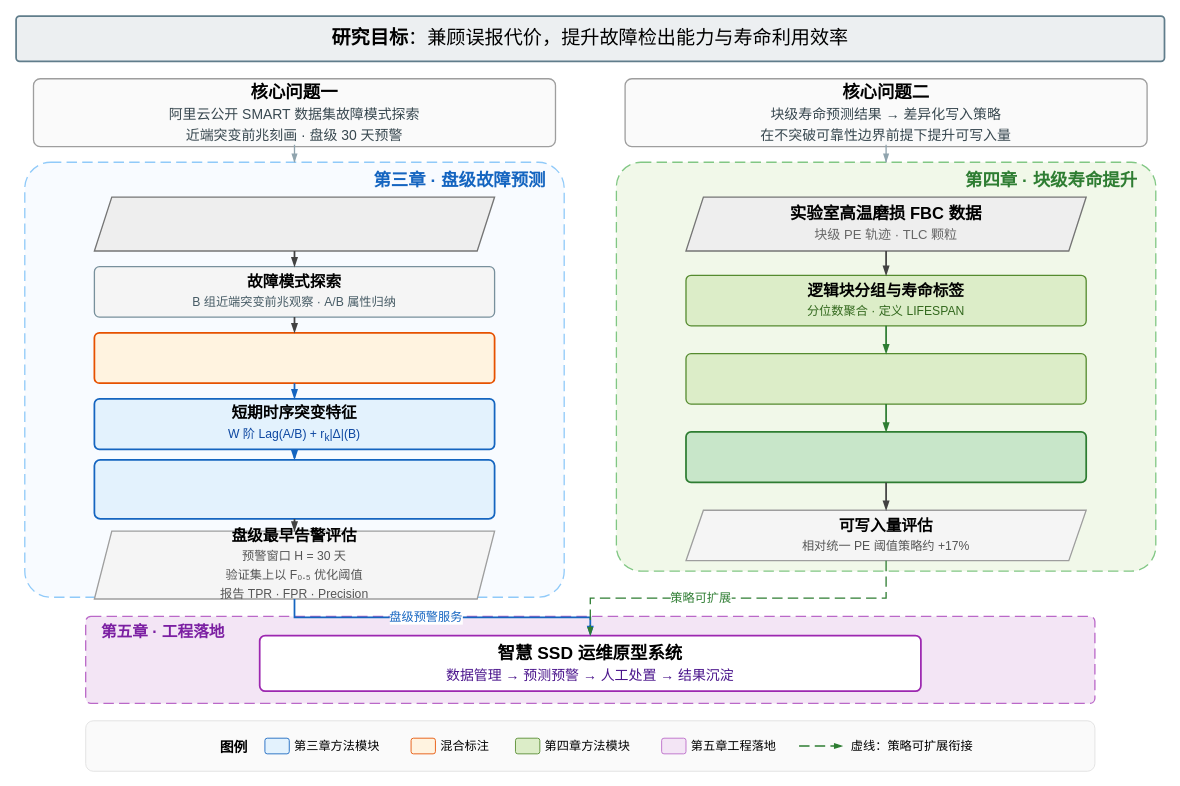
This 1180x786 diagram has some shape labels left out. The centre of each missing label's shape, as x and y in pixels:
"差异化 PE 上限策略 强块适度放宽 · 弱块保守退役" goes at pixel 886 457.
"异构集成预测 RF / XGB / LGB → Attention 融合 FocalLoss优化" goes at pixel 294 488.
"强块 / 弱块二分类 RF / XGB / LGB 集成学习 · LP/MP/UP 分区建模" goes at pixel 885 378.
"混合标注 抑制静默段标签噪声 · 与突变特征同尺度" goes at pixel 294 357.
"阿里云公开 SMART + 故障工单 MB1 / MB2 日级日志" goes at pixel 294 223.
